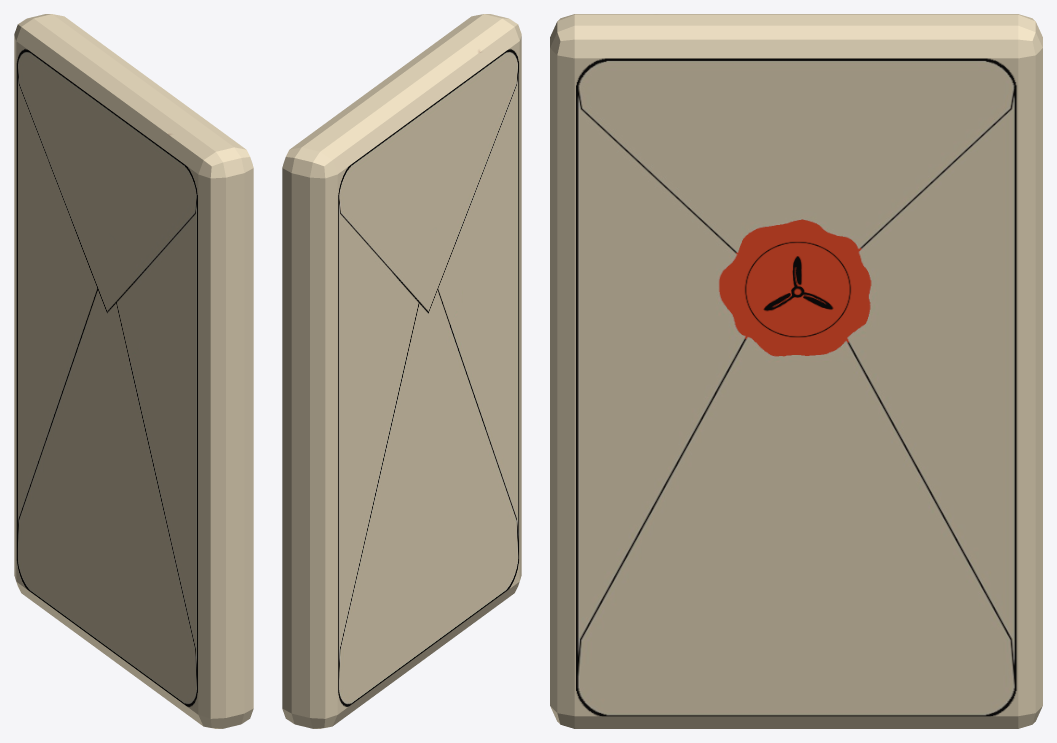
Rendered from Carta.fbx.
3 renders of one model, left to right at view 1: azimuth 30°, elevation 25°; view 2: azimuth 150°, elevation 25°; view 3: azimuth 270°, elevation 25°, orthographic. The views are drawn at different scales.
Parts seen in each view (by area): view 1: Cube; view 2: Cube; view 3: Cube.
Part boxes in pixels (left/top/right/bottom): Cube: left=14, top=14, right=253, bottom=728; Cube: left=282, top=14, right=521, bottom=728; Cube: left=550, top=14, right=1042, bottom=728.
Bounding box in the file's own units: 30.44 × 315 × 200.
Materials: 1 (1 with a texture image).
